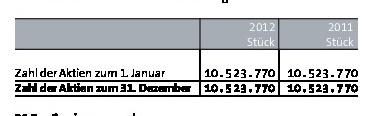table: (0, 0, 373, 116)
